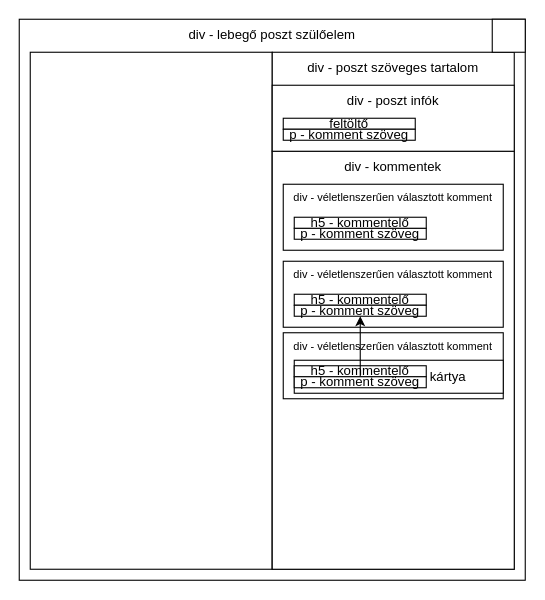
Some shapes in this 545 by 600 pixel diagram are drawn without their labels. Here are the shapes that lost their labels. From the top down, the centre of each, then its label:
pixel 508 35: div - bezár
pixel 150 310: div > img - poszt kép tartalom
